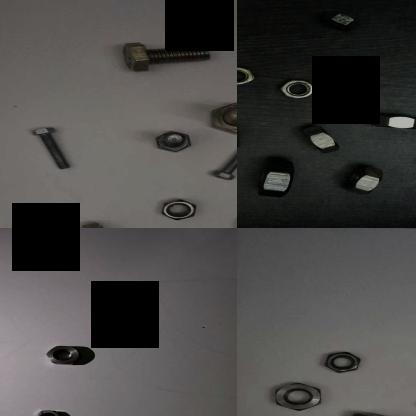Bolts: (116, 36, 216, 74), (26, 122, 78, 172), (203, 137, 237, 183), (151, 128, 201, 154), (200, 100, 237, 135)
NUTS: (250, 156, 300, 200), (266, 378, 326, 410), (314, 346, 364, 378), (151, 197, 201, 223), (364, 110, 416, 135), (274, 76, 320, 104), (300, 123, 340, 155), (342, 164, 382, 195), (39, 344, 83, 367), (322, 9, 364, 33), (75, 218, 119, 228), (237, 65, 255, 87), (31, 406, 70, 416)
